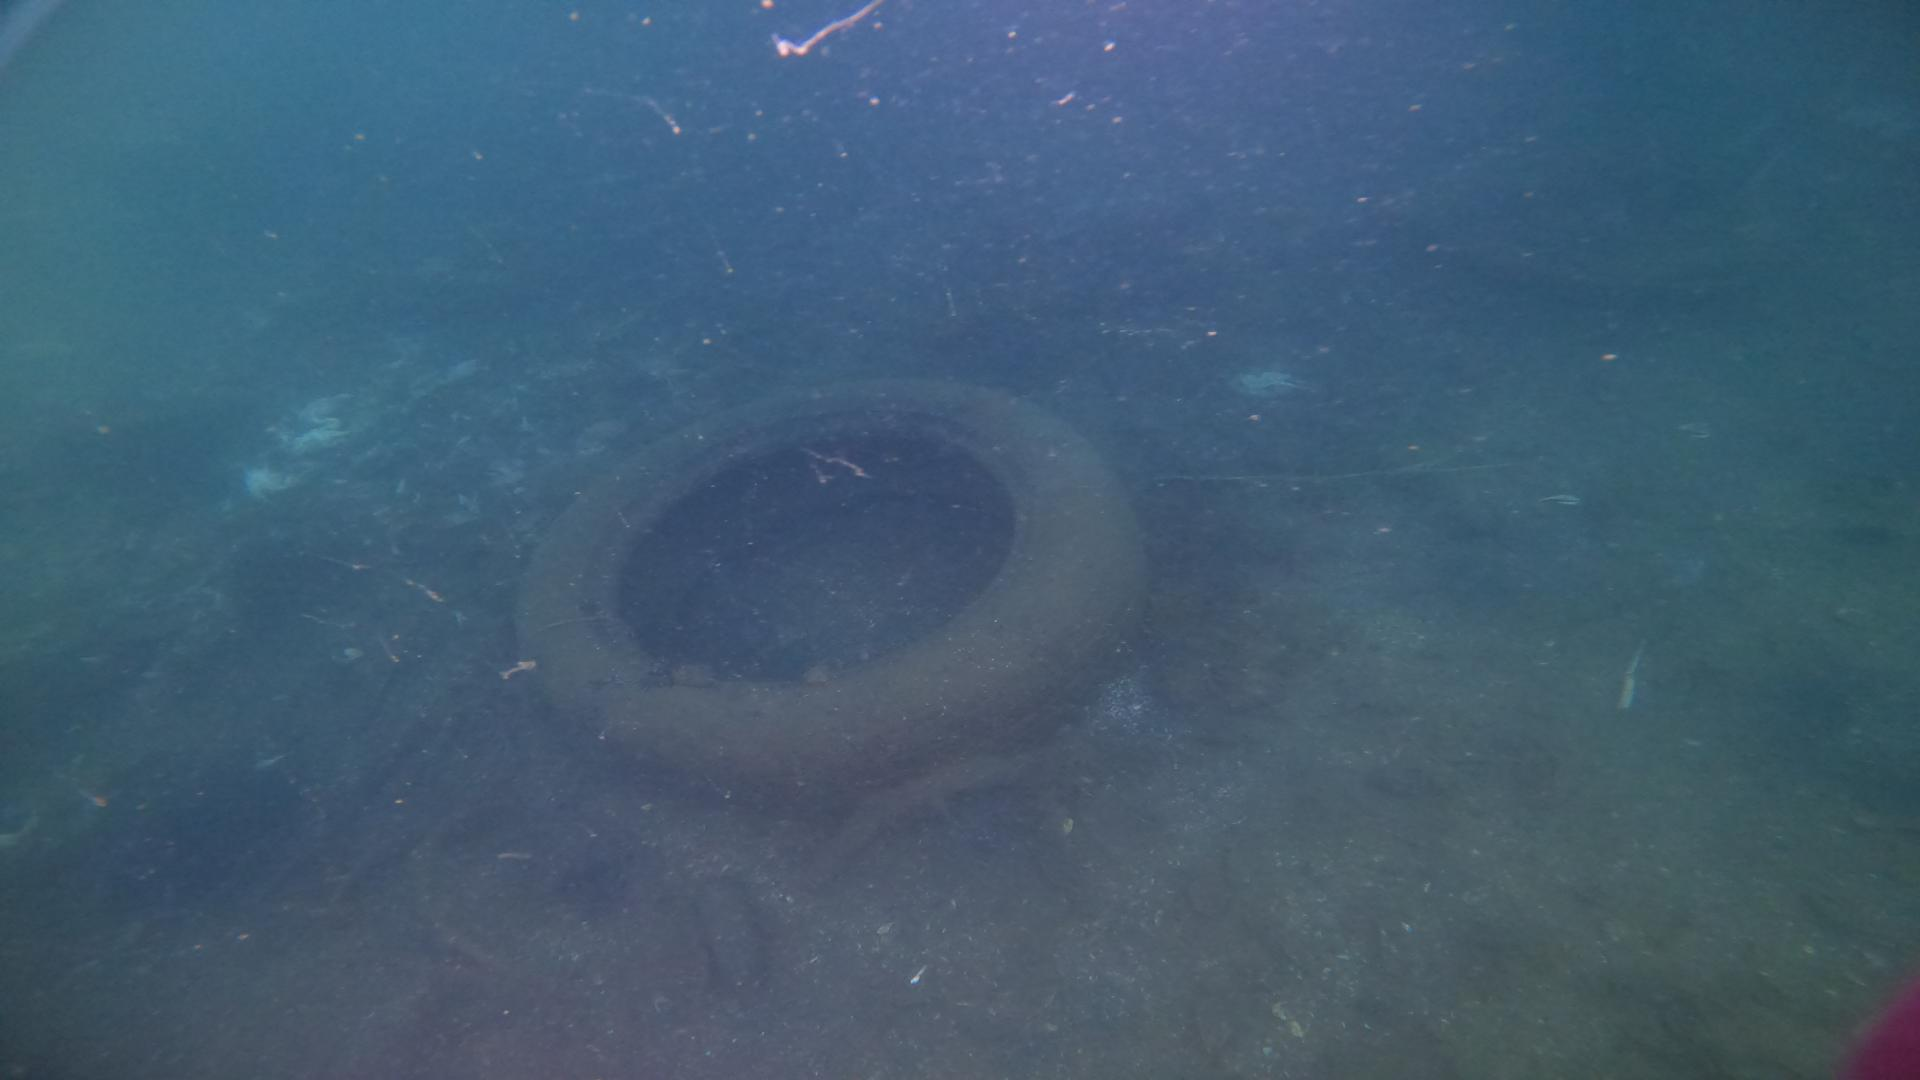tire: (516, 376, 1154, 798)
